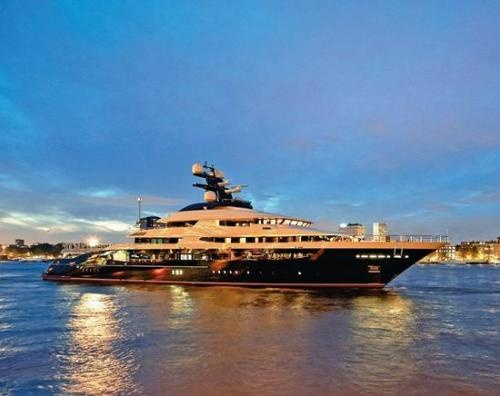yacht: (37, 162, 459, 292)
